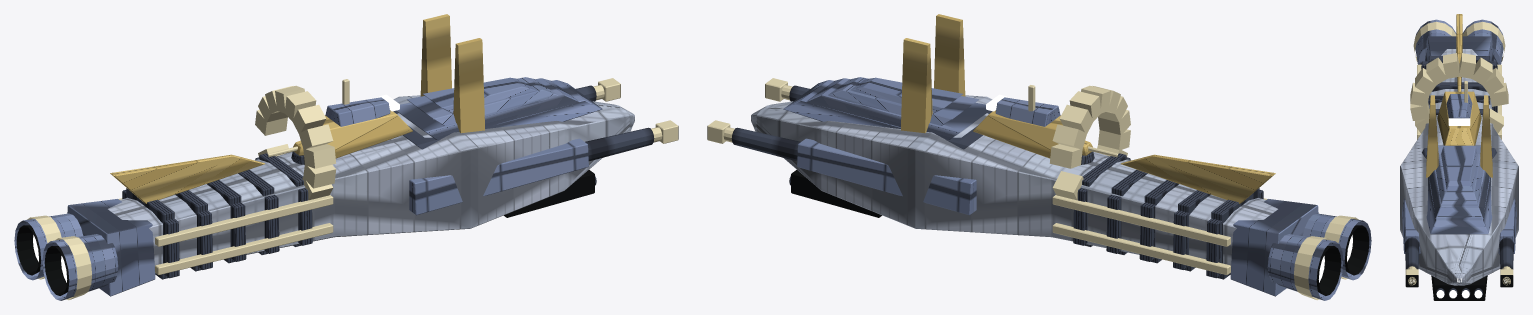
Rendered from destroyer.glb.
3 views of the same model, side by side, from view 1: azimuth 30°, elevation 25°; view 2: azimuth 150°, elevation 25°; view 3: azimuth 270°, elevation 25° (orthographic). The views are drawn at different scales.
Visible parts, largest first — view 1: destroyer; view 2: destroyer; view 3: destroyer.
Part boxes in pixels (x1,y1,x2,y2): destroyer: (14, 14, 678, 300); destroyer: (707, 14, 1371, 300); destroyer: (1400, 14, 1518, 300).
Size of the model in its own units: 30 by 8.75 by 6.22.
1 material, 1 textured.
